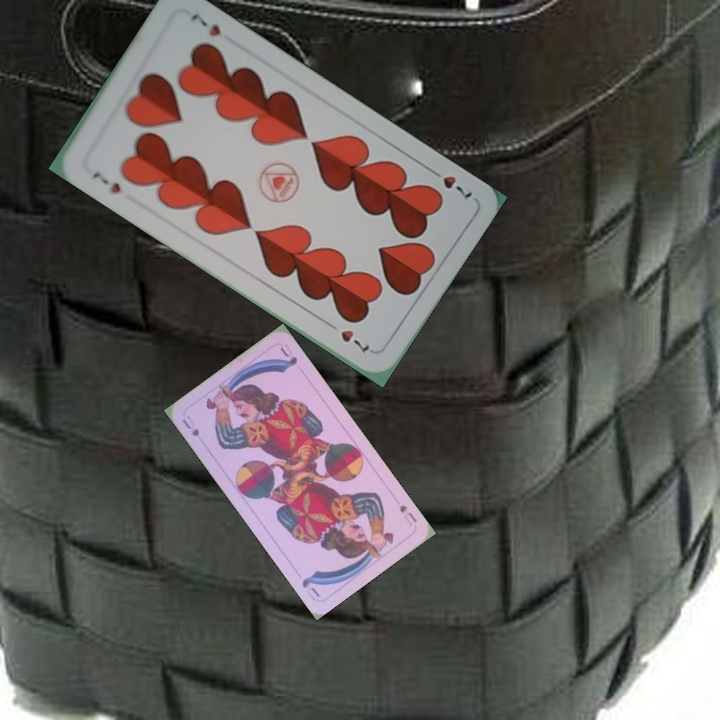H7: (424, 163, 475, 201), (88, 167, 124, 197)
SU: (178, 411, 202, 439), (395, 501, 419, 529)
